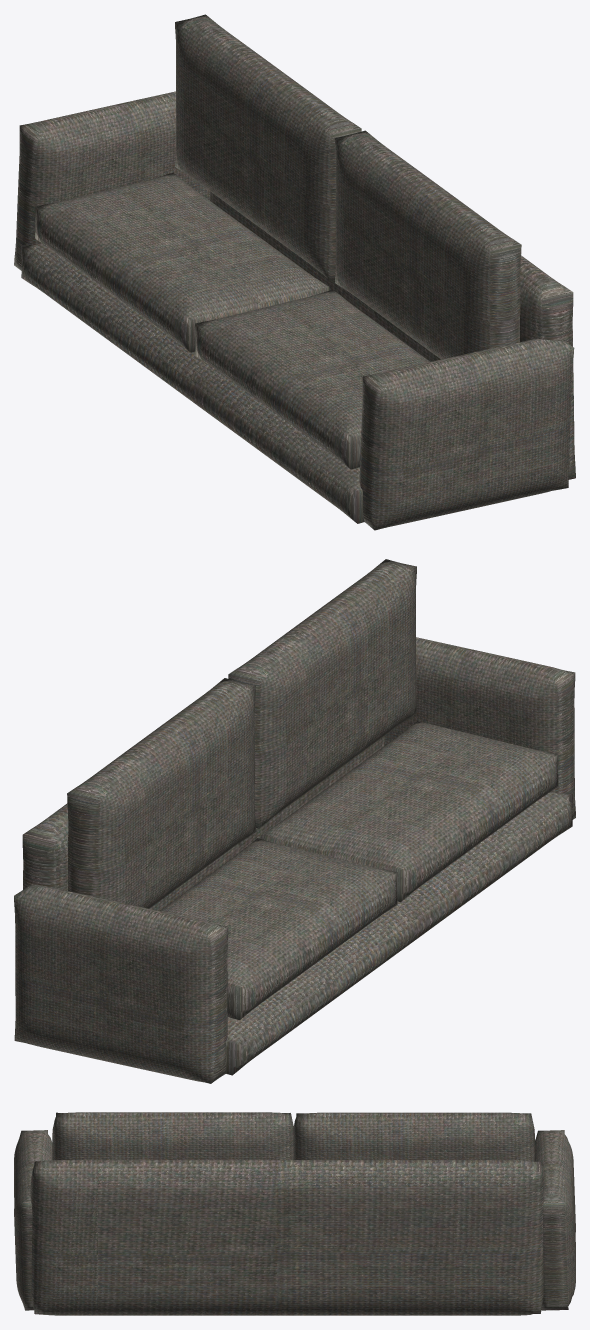
Rendered from sofa.fbx.
3 renders of one model, top to bottom at view 1: azimuth 30°, elevation 25°; view 2: azimuth 150°, elevation 25°; view 3: azimuth 270°, elevation 25°, orthographic. The views are drawn at different scales.
Parts seen in each view (by area): view 1: Cube.008, Cube.004, Cube.005, Cube.007, Cube.006, Cube.003, Cube.011, Cube.010; view 2: Cube.011, Cube.005, Cube.004, Cube.006, Cube.007, Cube.003, Cube.008, Cube.010; view 3: Cube.010, Cube.004, Cube.005, Cube.011, Cube.008.
Part boxes in pixels (bbox=[...]): Cube.008: bbox=[359, 339, 574, 530]; Cube.004: bbox=[334, 130, 521, 359]; Cube.005: bbox=[175, 14, 361, 280]; Cube.007: bbox=[35, 172, 329, 352]; Cube.006: bbox=[195, 289, 429, 469]; Cube.003: bbox=[21, 243, 364, 523]; Cube.011: bbox=[14, 91, 209, 270]; Cube.010: bbox=[210, 191, 575, 479]; Cube.011: bbox=[14, 885, 228, 1083]; Cube.005: bbox=[67, 678, 255, 908]; Cube.004: bbox=[228, 559, 416, 828]; Cube.006: bbox=[260, 721, 558, 901]; Cube.007: bbox=[160, 838, 397, 1020]; Cube.003: bbox=[225, 792, 572, 1075]; Cube.008: bbox=[384, 637, 575, 819]; Cube.010: bbox=[22, 736, 384, 910]; Cube.010: bbox=[30, 1160, 544, 1315]; Cube.004: bbox=[52, 1112, 293, 1160]; Cube.005: bbox=[293, 1112, 534, 1161]; Cube.011: bbox=[535, 1130, 575, 1310]; Cube.008: bbox=[14, 1130, 52, 1310].
Size of the model in its own units: 335 by 344 by 937.
1 material, 1 textured.
